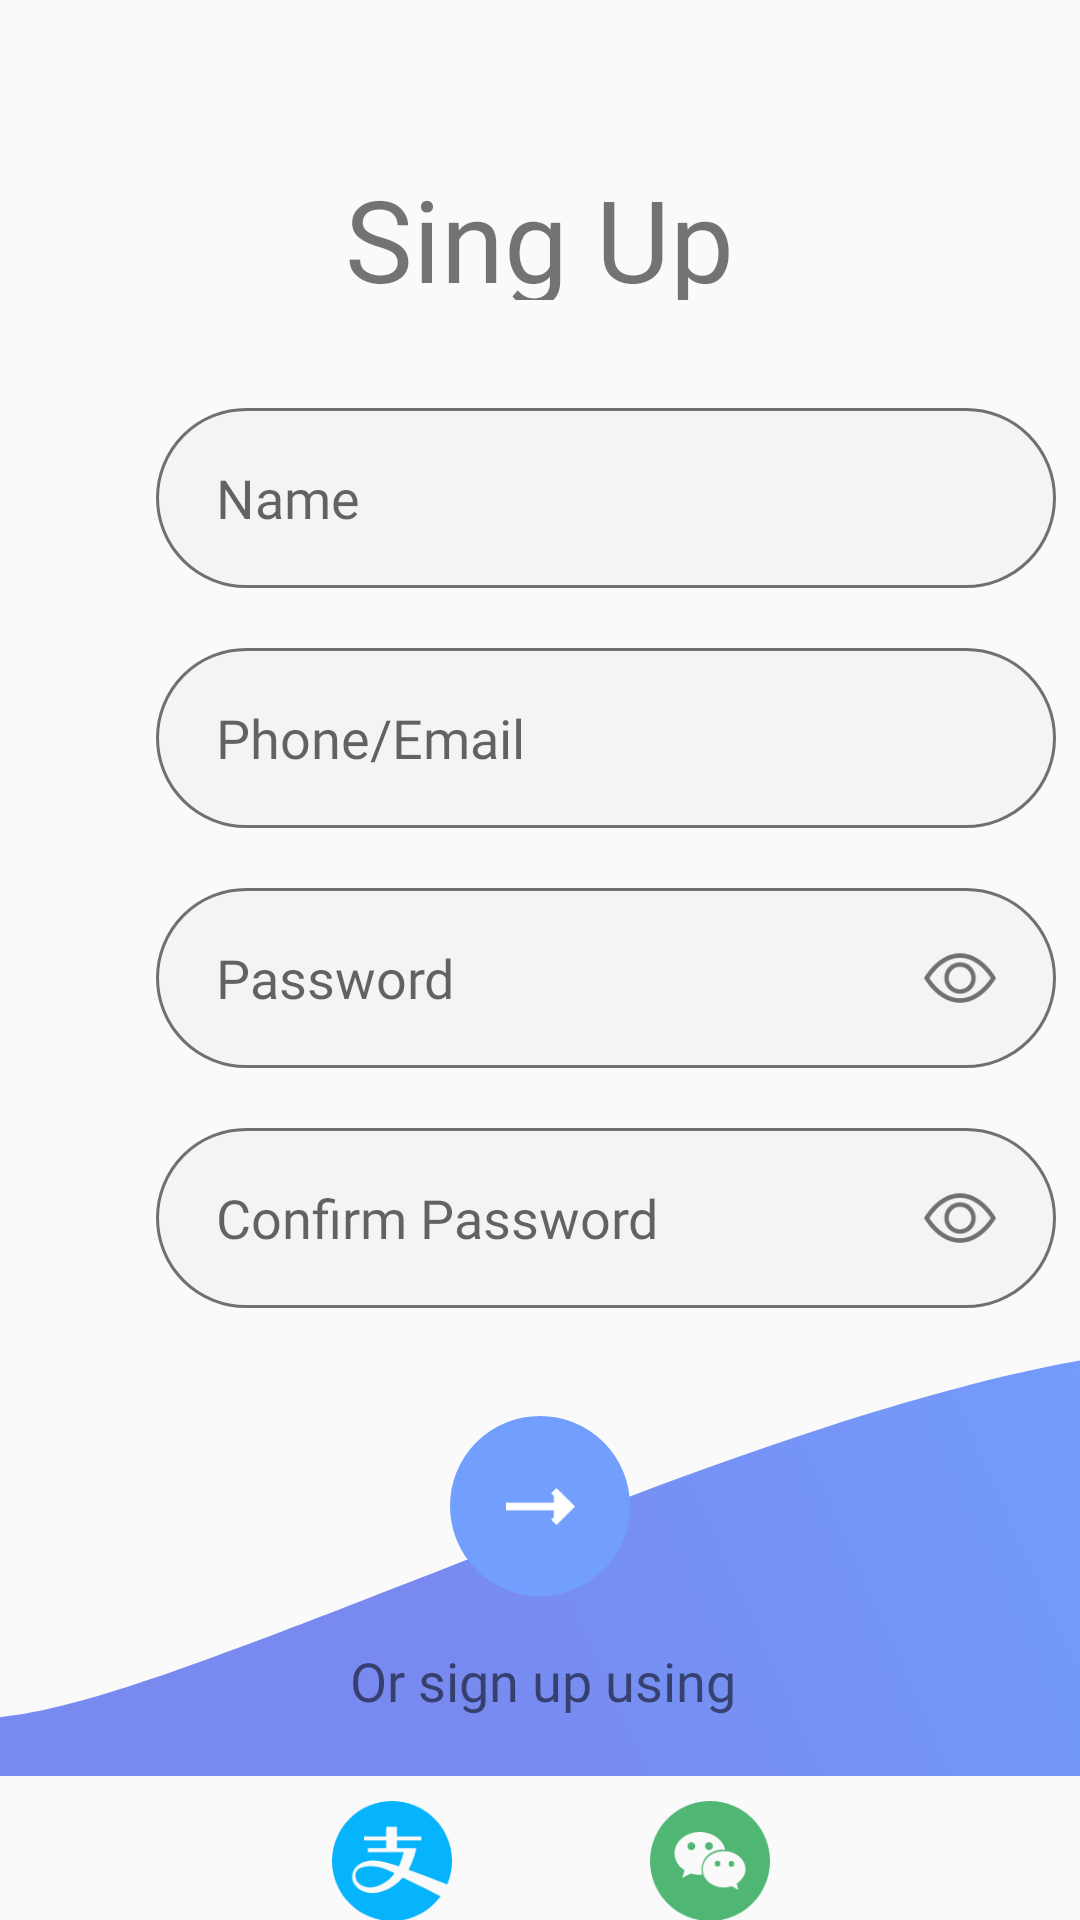

Icons on this 1080×1920 Android screen, each with the point to tap as [x,y]:
arrow: [540,1506]
eye: [960,978], [960,1218]
